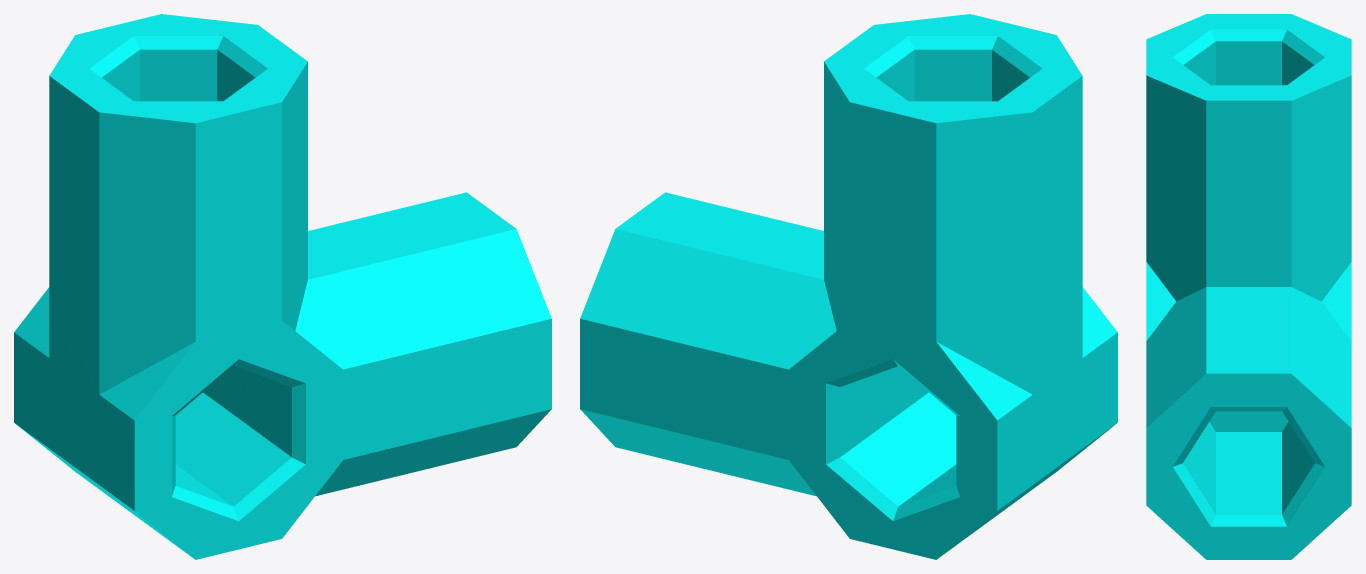
The model's file is 90 Connector.glb.
3 renders of one model, left to right at view 1: azimuth 30°, elevation 25°; view 2: azimuth 150°, elevation 25°; view 3: azimuth 270°, elevation 25°, orthographic. The views are drawn at different scales.
Visible parts, largest first — view 1: empty_2; view 2: empty_2; view 3: empty_2.
Part boxes in pixels (x1=…): empty_2: x1=14, y1=14, x2=551, y2=559; empty_2: x1=580, y1=14, x2=1117, y2=559; empty_2: x1=1146, y1=14, x2=1351, y2=559.
Size of the model in its own units: 14 by 14 by 7.
